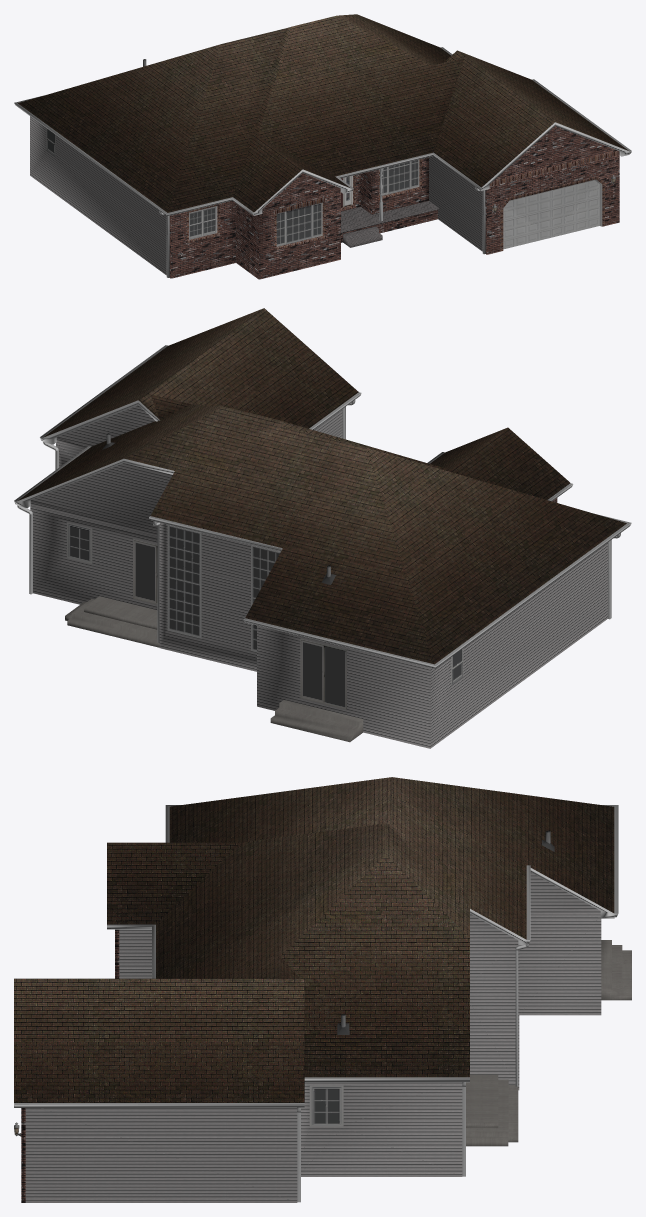
The model's file is b2 mirror.fbx.
3 renders of one model, top to bottom at view 1: azimuth 30°, elevation 25°; view 2: azimuth 150°, elevation 25°; view 3: azimuth 270°, elevation 25°, orthographic. The views are drawn at different scales.
Parts seen in each view (by area): view 1: polySurface371_phong4_0; view 2: polySurface371_phong4_0; view 3: polySurface371_phong4_0.
Part boxes in pixels (x1,y1,x2,y2): polySurface371_phong4_0: (14, 14, 631, 279); polySurface371_phong4_0: (14, 308, 631, 748); polySurface371_phong4_0: (14, 777, 631, 1202).
Size of the model in its own units: 1978 by 713 by 1723.
Materials: 1 (1 with a texture image).
